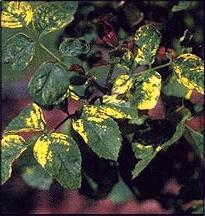Tomato leaf mosaic virus: (38, 133, 81, 193), (72, 111, 120, 163), (28, 61, 70, 105), (32, 2, 81, 36), (132, 23, 166, 68), (4, 31, 38, 73), (57, 38, 91, 59)
